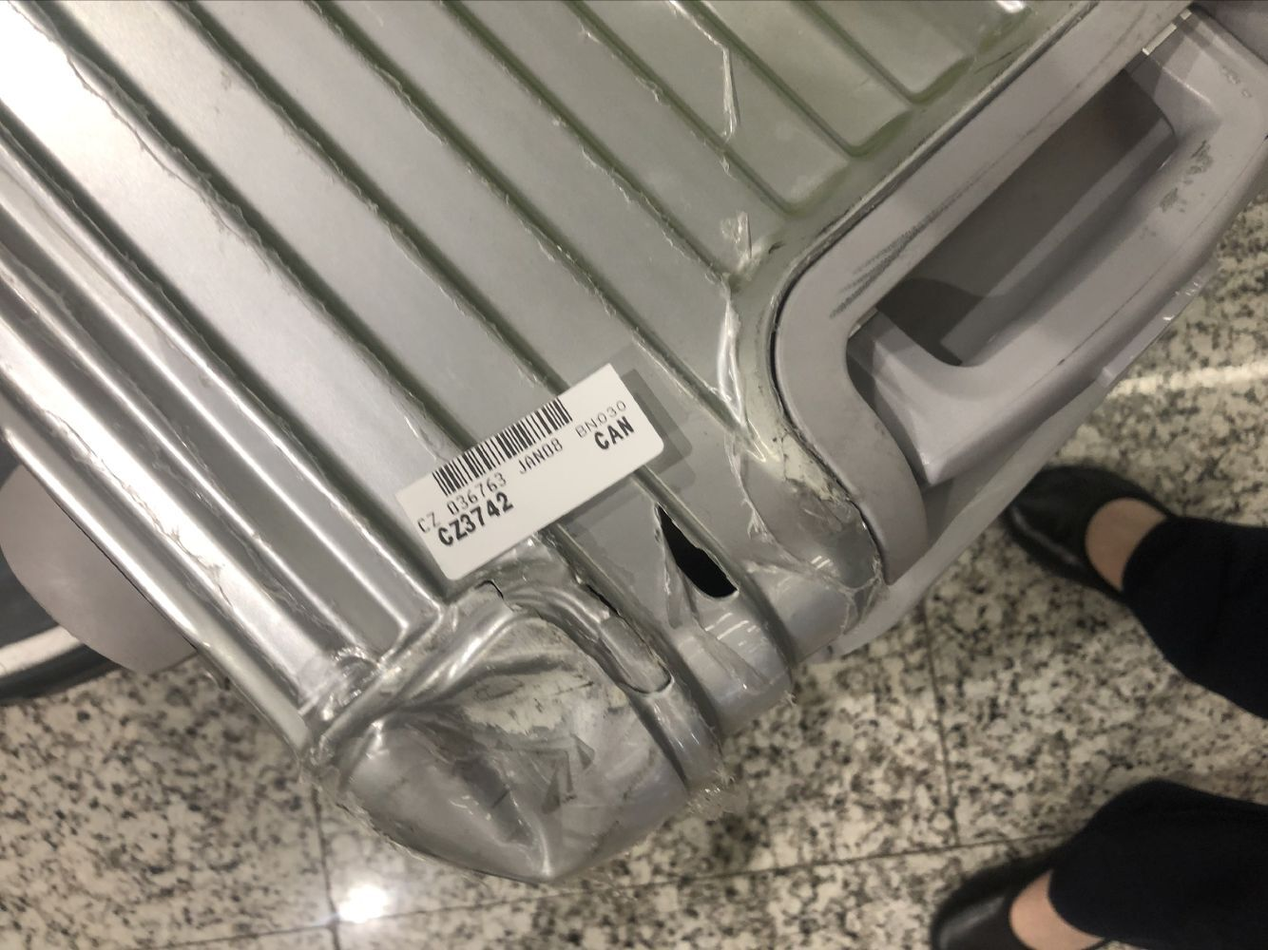hollow: (656, 504, 738, 599)
rupture: (325, 618, 615, 875)
